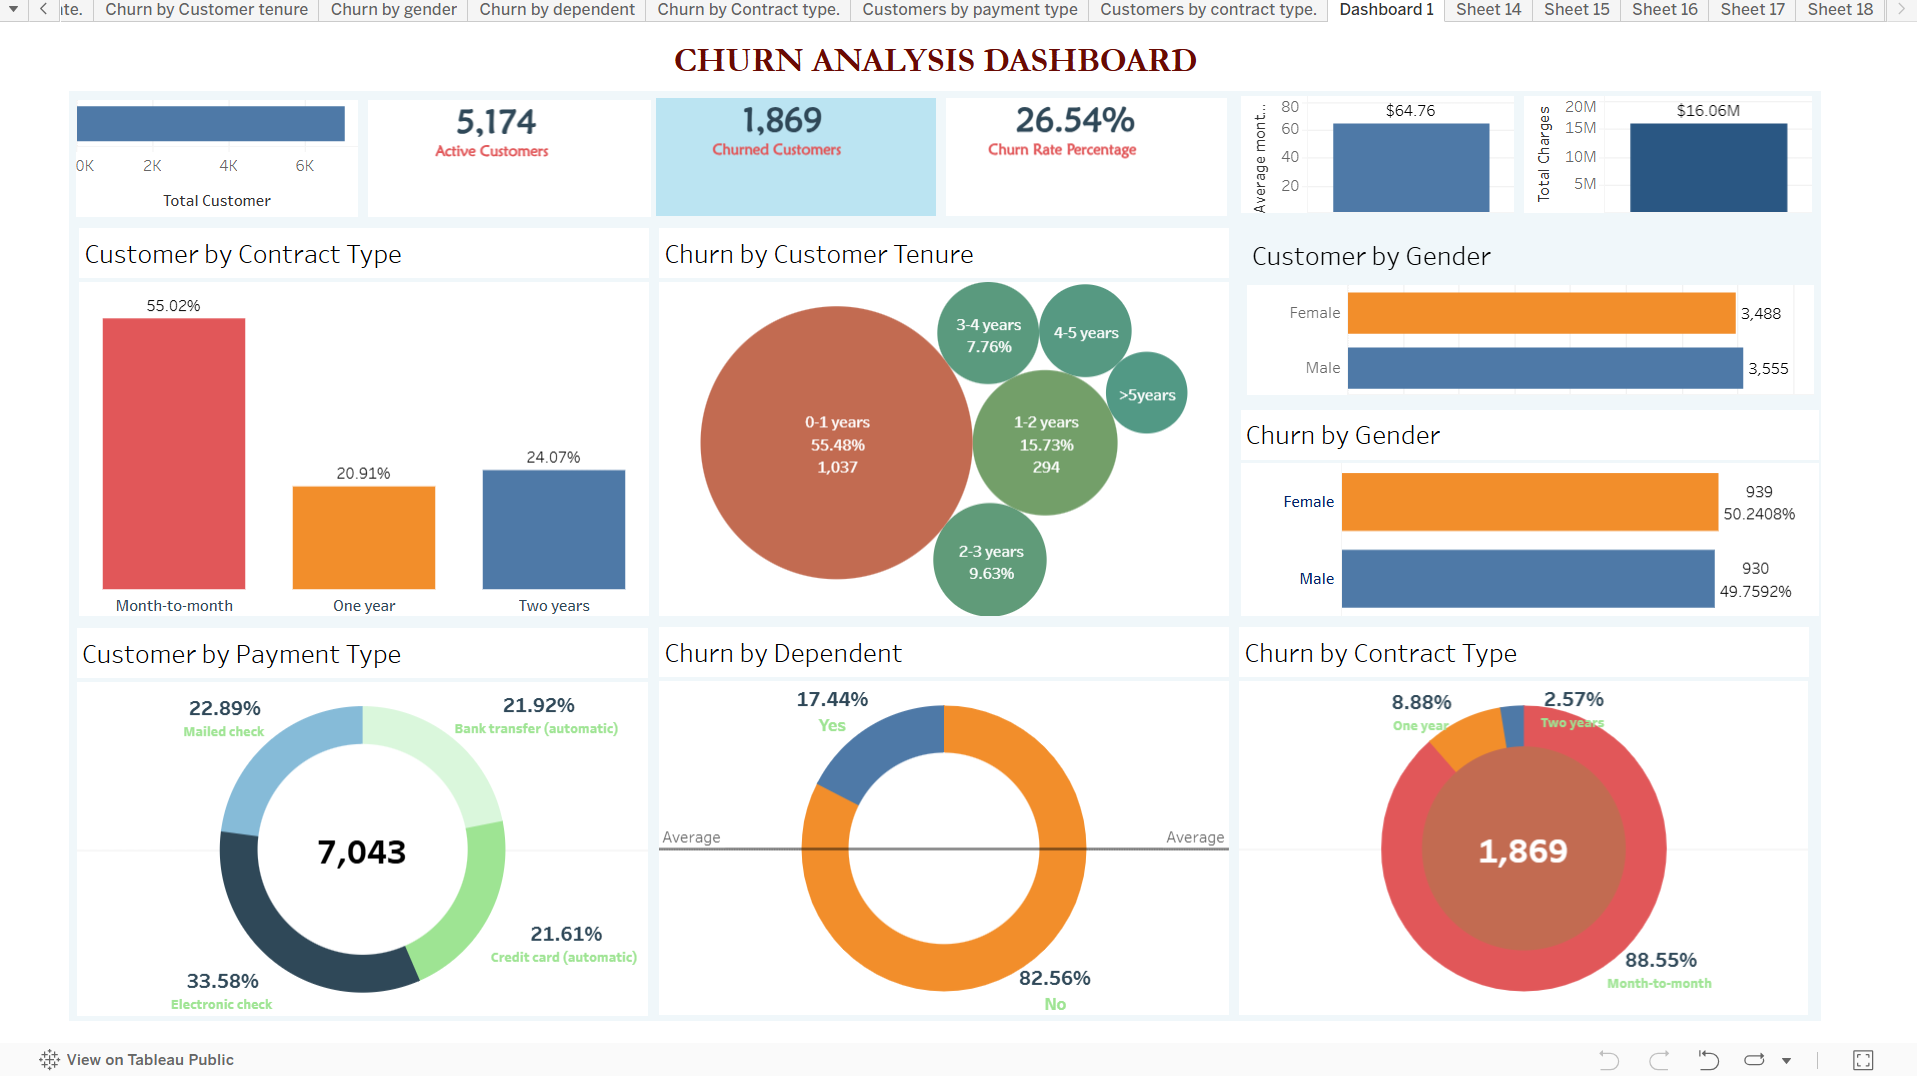

The page's visual inventory and layout, read from the dashboard file:
{"tool":"tableau","page":{"name":"Dashboard 1","canvas":[1000,1000],"units":"permille","ordinal":0},"visuals":[{"type":"title","box":[5.3,9.4,989.3,54]},{"type":"blank","box":[5.3,63.4,989.3,927.2]},{"type":"blank","box":[38.3,65.6,934,914]},{"type":"worksheet","title":" Average monthly charges","mark":"Automatic","rows":["Calculation_1467047603992469508"],"box":[660.1,65.6,150.2,125.4]},{"type":"worksheet","title":"Total charges","mark":"Automatic","rows":["TotalCharges"],"box":[810.3,65.6,159.5,125.4]},{"type":"worksheet","title":"No. of Customer churn. ","mark":"Automatic","box":[348,67.1,154.7,125.4]},{"type":"worksheet","title":"% Churn rate. ","mark":"Automatic","box":[502.7,67.1,155,125.4]},{"type":"worksheet","title":"Total no. of customers. ","mark":"Automatic","cols":["Calculation_1467047603990446080"],"box":[38.7,68.1,156,125.6]},{"type":"worksheet","title":"Active Customers","mark":"Automatic","box":[194.7,68.1,156,125.6]},{"type":"worksheet","title":"Customers by contract type.","mark":"Automatic","rows":["Calculation_1467047603990446080"],"cols":["Contract"],"box":[40.3,195.3,309.5,390.7]},{"type":"worksheet","title":"Churn by Customer tenure","mark":"Circle","box":[349.9,195.3,309.5,390.7]},{"type":"worksheet","title":"Customers by gender","mark":"Automatic","rows":["gender"],"cols":["Calculation_1467047603990446080"],"box":[666,203.1,302.7,174.9]},{"type":"worksheet","title":"Churn by gender ","mark":"Automatic","rows":["gender"],"cols":["Calculation_1467047603990773761"],"box":[662.7,377.9,308.7,203.1]},{"type":"worksheet","title":"Churn by dependent","mark":"Pie","rows":["Calculation_1467047604007845918","Calculation_1467047604007874592"],"box":[349.9,587.5,309.5,390.7]},{"type":"worksheet","title":"Churn by Contract type.","mark":"Pie","rows":["Calculation_1467047604010881058","Calculation_1467047604010909732"],"box":[659.4,587.5,309.5,390.7]},{"type":"worksheet","title":"Customers by payment type ","mark":"Pie","rows":["Calculation_1467047604249292842","Calculation_1467047604249317420"],"box":[39.6,588.9,309.5,390.7]}]}

Visuals, with their boxes on the dashboard's canvas, which has no fixed pixel size, in thousandths of its width and height (x1, y1, x2, y2). These are canvas units, not pixel positions in the 1917x1076 screenshot, which may show the page scaled, cropped or inside an application window:
title: x1=5 y1=9 x2=995 y2=63
blank: x1=5 y1=63 x2=995 y2=991
blank: x1=38 y1=66 x2=972 y2=980
" Average monthly charges" worksheet: x1=660 y1=66 x2=810 y2=191
"Total charges" worksheet: x1=810 y1=66 x2=970 y2=191
"No. of Customer churn. " worksheet: x1=348 y1=67 x2=503 y2=192
"% Churn rate. " worksheet: x1=503 y1=67 x2=658 y2=192
"Total no. of customers. " worksheet: x1=39 y1=68 x2=195 y2=194
"Active Customers" worksheet: x1=195 y1=68 x2=351 y2=194
"Customers by contract type." worksheet: x1=40 y1=195 x2=350 y2=586
"Churn by Customer tenure" worksheet (Circle marks): x1=350 y1=195 x2=659 y2=586
"Customers by gender" worksheet: x1=666 y1=203 x2=969 y2=378
"Churn by gender " worksheet: x1=663 y1=378 x2=971 y2=581
"Churn by dependent" worksheet (Pie marks): x1=350 y1=588 x2=659 y2=978
"Churn by Contract type." worksheet (Pie marks): x1=659 y1=588 x2=969 y2=978
"Customers by payment type " worksheet (Pie marks): x1=40 y1=589 x2=349 y2=980
